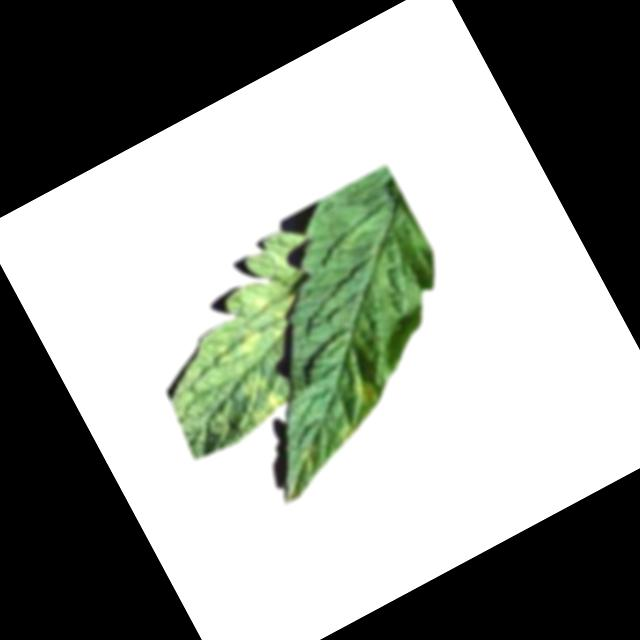Leaf_Mold: (226, 364, 290, 429), (340, 364, 385, 412), (226, 317, 269, 361), (328, 415, 362, 447)
